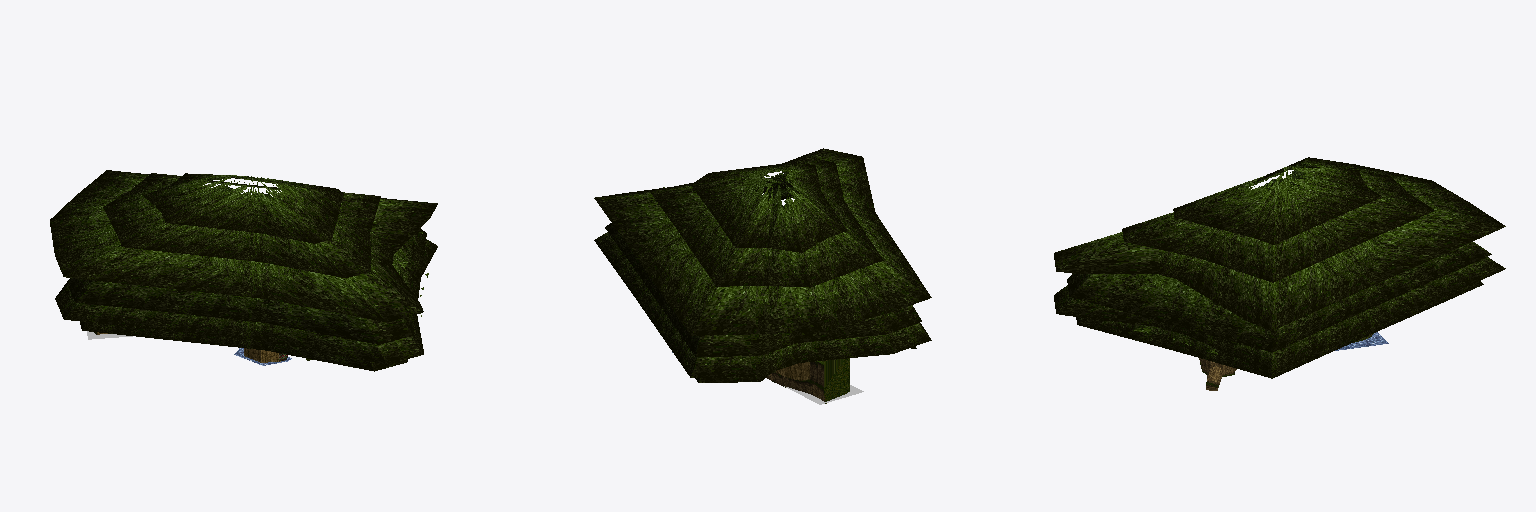
3 views of the same model, side by side, from view 1: azimuth 30°, elevation 25°; view 2: azimuth 150°, elevation 25°; view 3: azimuth 270°, elevation 25° (orthographic).
Visible parts, largest first — view 1: #Room0#IndoorEnv02#_Background#NoCollision_Forest_Tree03#NoColli; view 2: #Room0#IndoorEnv02#_Background#NoCollision_Forest_Tree03#NoColli, #Room0#IndoorEnv02#_Exit1_ext_grass_dark#SFX_8#IndoorEnv02#Exit0, #Room0#IndoorEnv02#_Exit1_Grass-Dirt.#IndoorEnv02#Exit01; view 3: #Room0#IndoorEnv02#_Background#NoCollision_Forest_Tree03#NoColli, #Room0#IndoorEnv01#_Plane_Grass-Dirt..
Boxes of the visible parts, <box> form: #Room0#IndoorEnv02#_Background#NoCollision_Forest_Tree03#NoColli: <box>50,170,437,371</box>; #Room0#IndoorEnv02#_Background#NoCollision_Forest_Tree03#NoColli: <box>594,148,931,382</box>; #Room0#IndoorEnv02#_Exit1_ext_grass_dark#SFX_8#IndoorEnv02#Exit0: <box>824,358,849,403</box>; #Room0#IndoorEnv02#_Exit1_Grass-Dirt.#IndoorEnv02#Exit01: <box>796,361,825,403</box>; #Room0#IndoorEnv02#_Background#NoCollision_Forest_Tree03#NoColli: <box>1054,157,1505,378</box>; #Room0#IndoorEnv01#_Plane_Grass-Dirt.: <box>1199,333,1373,390</box>.
Size of the model in its own units: 8156 by 3500 by 8979.
40 materials, 34 textured.